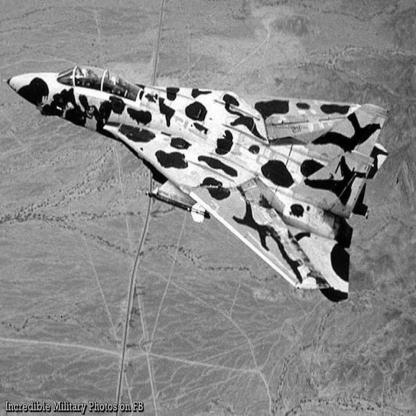F14: (3, 66, 391, 304)
